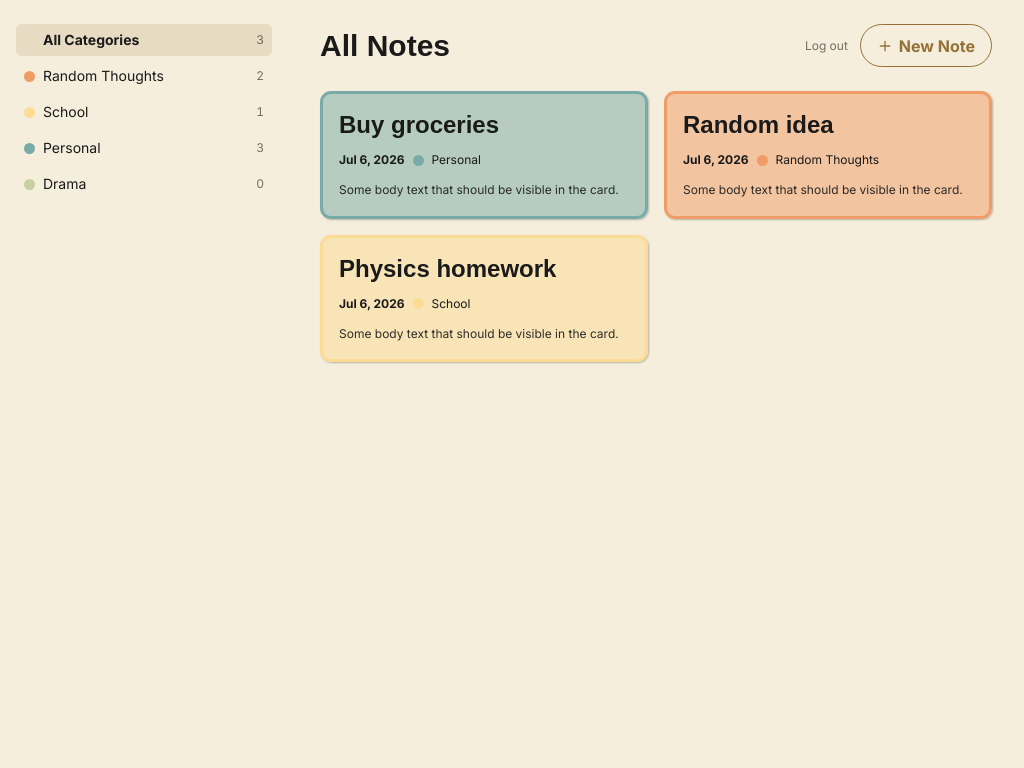
Test case: NotesWorkspace category filter › shows the empty state for a category with no notes
Click the button "Drama 0".
click(144, 184)  # box [16,168,272,200]
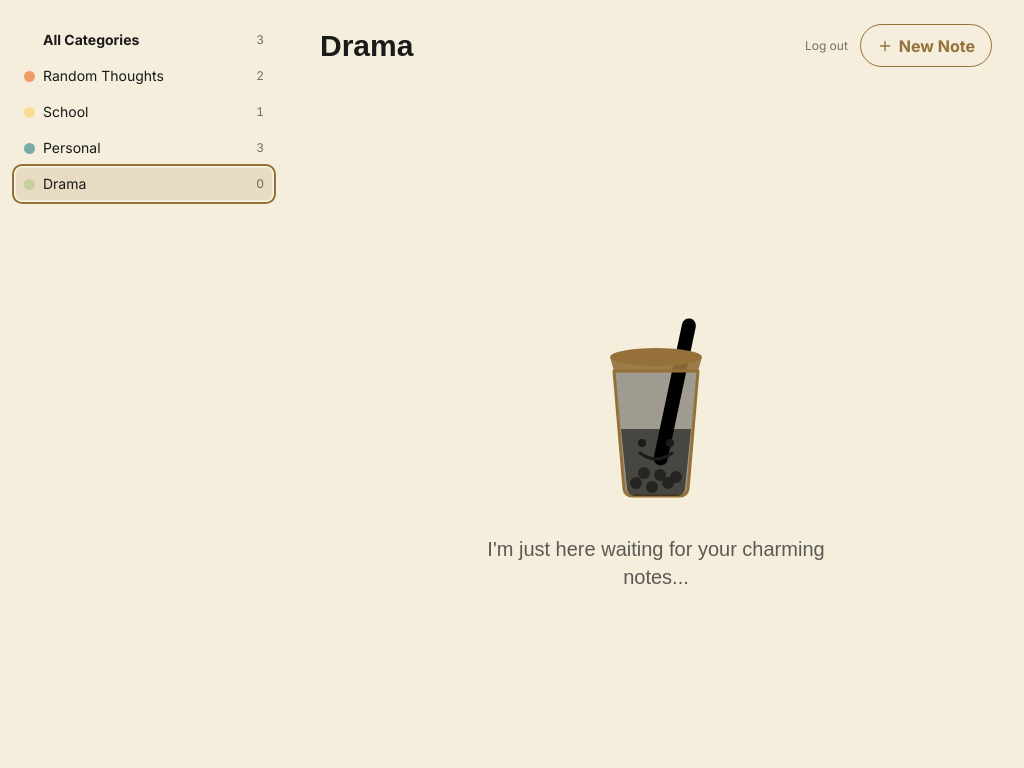
Expected: the text "I'm just here waiting for your charming notes..." is shown, [464,535,848,591]
